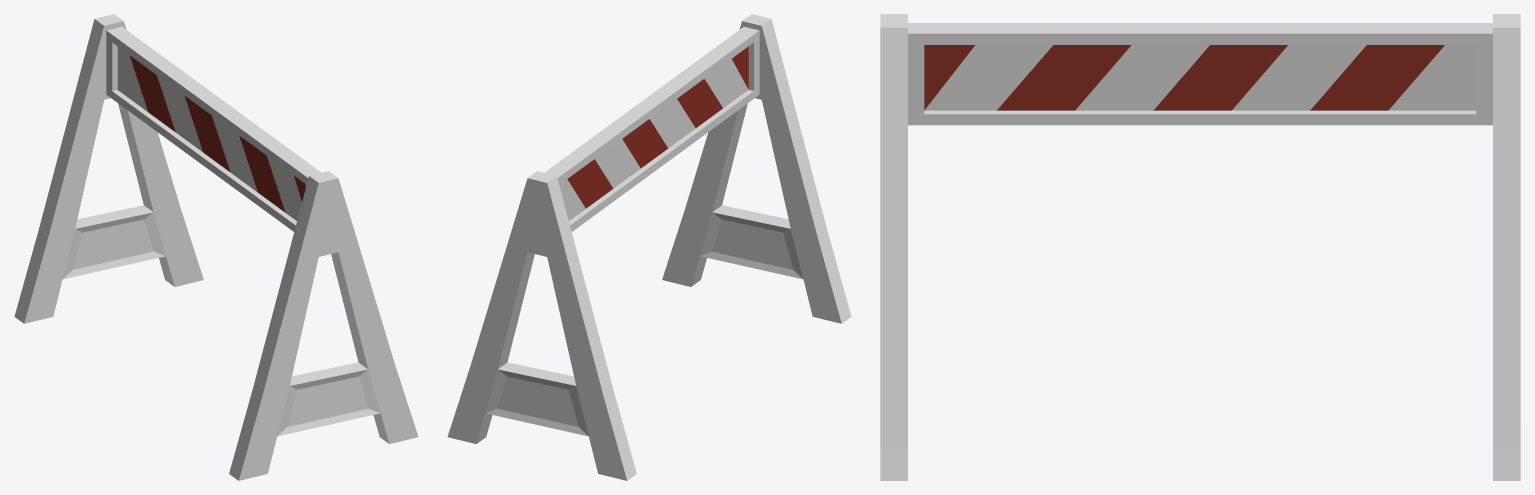
The model's file is dividers-barricade.glb.
3 views of the same model, side by side, from view 1: azimuth 30°, elevation 25°; view 2: azimuth 150°, elevation 25°; view 3: azimuth 270°, elevation 25° (orthographic). The views are drawn at different scales.
Parts seen in each view (by area): view 1: barricade; view 2: barricade; view 3: barricade.
Part boxes in pixels (x1=…): barricade: x1=14, y1=14, x2=418, y2=480; barricade: x1=447, y1=14, x2=851, y2=480; barricade: x1=880, y1=14, x2=1520, y2=480.
Bounding box in the file's own units: 0.664 × 0.9825 × 1.43.
1 material, 1 textured.
